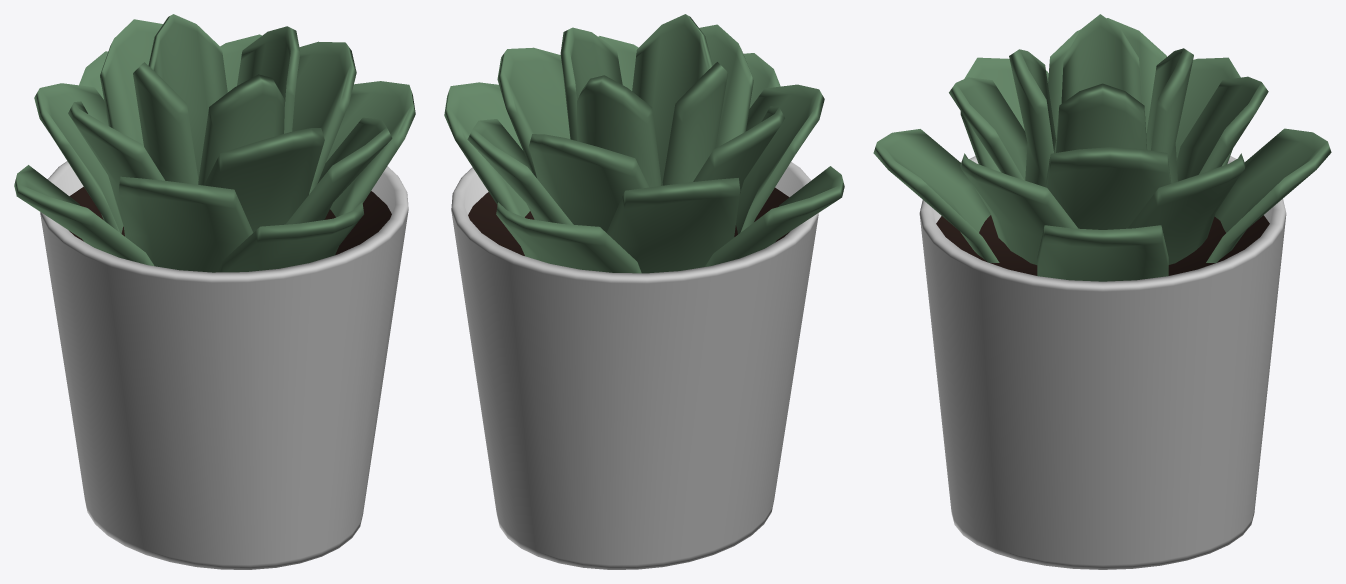
The model's file is tanaman ikea 1.fbx.
The picture shows the model from 3 angles, left to right: view 1: azimuth 30°, elevation 25°; view 2: azimuth 150°, elevation 25°; view 3: azimuth 270°, elevation 25°; orthographic projection.
Visible parts, largest first — view 1: Cylinder, Cube.007, Cube.011, Cube.012, Cube.008, Cube.005, Cube.013, Cube.001, Cube.014, Cube.002, Cube.010, Cube (+5 smaller); view 2: Cylinder, Cube.005, Cube.010, Cube.013, Cube.008, Cube.012, Cube.007, Cube.003, Cube.014, Cube.001, Cube, Cube.006 (+5 smaller); view 3: Cylinder, Cube.008, Cube.001, Cube.002, Cube.003, Cube.006, Cube.004, Cube.015, Cube.010, Cube.014, Cube.011, Cube.013 (+4 smaller).
Boxes of the visible parts, x1=… form: Cylinder: x1=40, y1=161, x2=408, y2=569; Cube.007: x1=119, y1=176, x2=253, y2=272; Cube.011: x1=204, y1=128, x2=324, y2=232; Cube.012: x1=148, y1=14, x2=227, y2=179; Cube.008: x1=292, y1=41, x2=356, y2=194; Cube.005: x1=34, y1=83, x2=123, y2=233; Cube.013: x1=198, y1=74, x2=284, y2=185; Cube.001: x1=326, y1=81, x2=415, y2=217; Cube.014: x1=133, y1=62, x2=198, y2=184; Cube.002: x1=218, y1=202, x2=363, y2=272; Cube.010: x1=100, y1=19, x2=162, y2=146; Cube: x1=14, y1=165, x2=154, y2=266; Cylinder: x1=451, y1=162, x2=818, y2=569; Cube.005: x1=606, y1=178, x2=740, y2=273; Cube.010: x1=529, y1=134, x2=649, y2=232; Cube.013: x1=632, y1=14, x2=712, y2=185; Cube.008: x1=497, y1=47, x2=570, y2=177; Cube.012: x1=577, y1=75, x2=661, y2=187; Cube.007: x1=736, y1=84, x2=824, y2=234; Cube.003: x1=496, y1=202, x2=641, y2=273; Cube.014: x1=662, y1=62, x2=727, y2=185; Cube.001: x1=444, y1=82, x2=529, y2=217; Cube: x1=705, y1=166, x2=844, y2=266; Cube.006: x1=467, y1=119, x2=573, y2=224; Cylinder: x1=919, y1=156, x2=1286, y2=569; Cube.008: x1=1045, y1=147, x2=1171, y2=229; Cube.001: x1=1037, y1=225, x2=1168, y2=281; Cube.002: x1=873, y1=129, x2=999, y2=262; Cube.003: x1=1206, y1=128, x2=1331, y2=262; Cube.006: x1=1128, y1=153, x2=1245, y2=264; Cube.004: x1=960, y1=153, x2=1078, y2=264; Cube.015: x1=1055, y1=83, x2=1146, y2=152; Cube.010: x1=1176, y1=76, x2=1268, y2=181; Cube.014: x1=1061, y1=14, x2=1141, y2=103; Cube.011: x1=949, y1=77, x2=1027, y2=180; Cube.013: x1=1009, y1=49, x2=1056, y2=186.
Size of the model in its own units: 246 by 277 by 249.
1 material, 1 textured.
